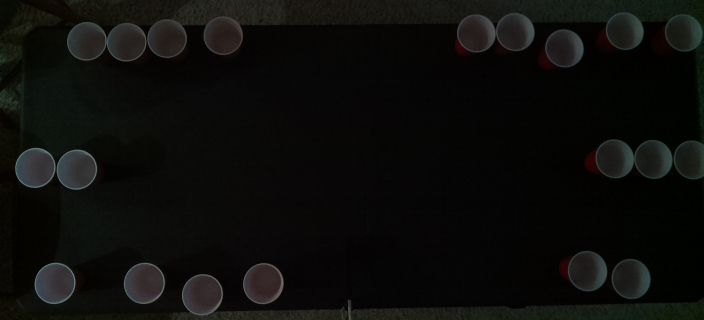active bp cup: (14, 146, 56, 188), (56, 148, 98, 190), (633, 138, 673, 179), (594, 137, 633, 179), (673, 138, 703, 180)
inactive bp cup: (181, 273, 223, 316), (123, 262, 165, 304), (33, 262, 75, 304), (610, 256, 651, 299), (243, 261, 284, 304), (567, 250, 608, 292), (494, 11, 535, 53), (66, 19, 106, 61), (202, 15, 244, 55), (107, 19, 146, 62), (543, 28, 583, 68), (454, 14, 494, 54), (604, 12, 644, 51), (147, 18, 188, 56), (664, 14, 702, 52)
